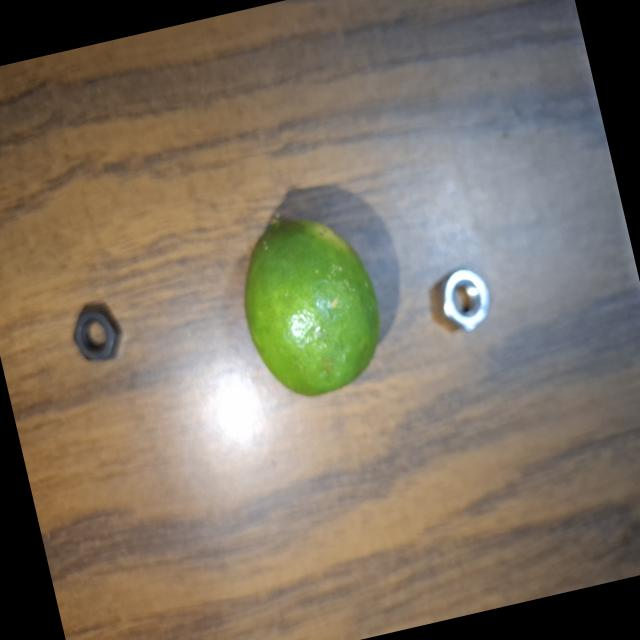limon: (220, 195, 398, 416)
milimetrico: (59, 292, 140, 371)
tuerca: (415, 254, 506, 351)
